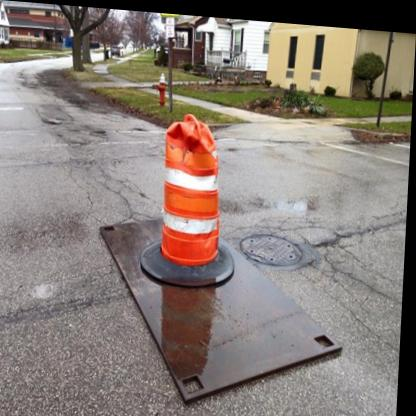obstacle: (154, 105, 233, 269)
